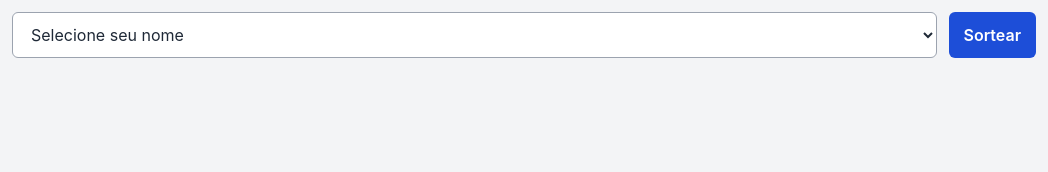
it: na pagina de sorteio › o amigo secreto é exibido quando solicitado
Select "Ana" in the dropdown with placeholder "Selecione o seu nome". click: (474, 35)
box: 12,12 -> 937,58
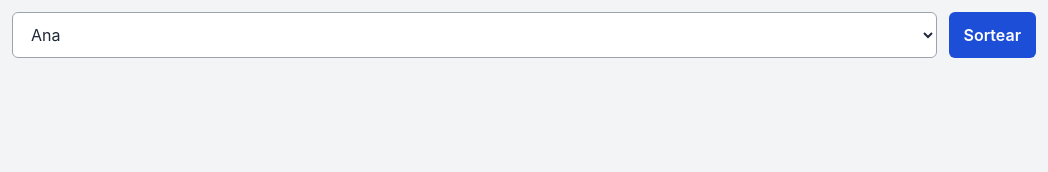
Click the button. click: (992, 35)
box: 949,12 -> 1036,58
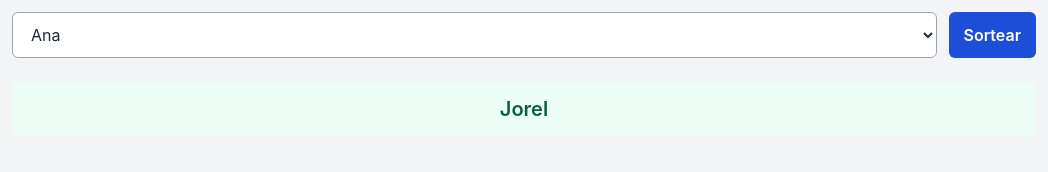
Now the message "Jorel" is shown, box 12,82 -> 1036,136
